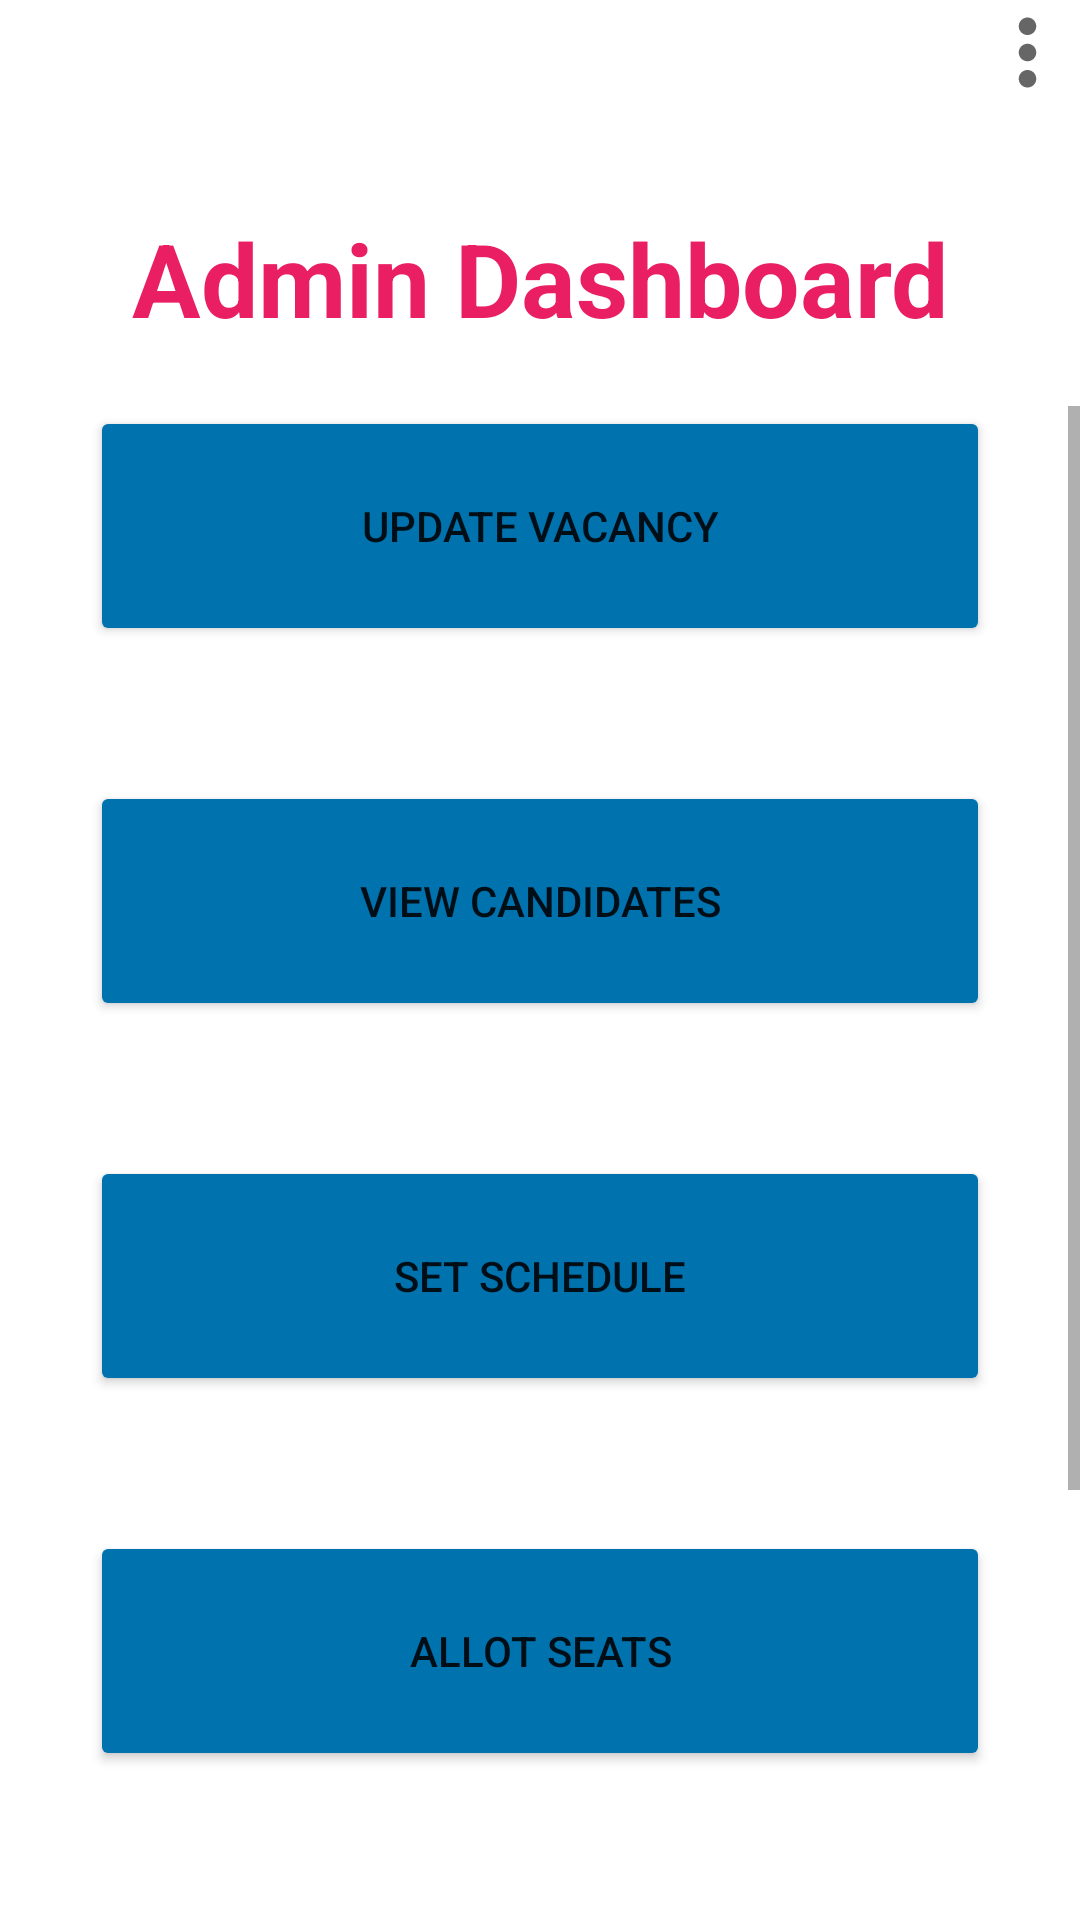

Point at icon controls on the screen. Image size 1080px x 1920px, points as [x,y].
more vert: [1027,52]
